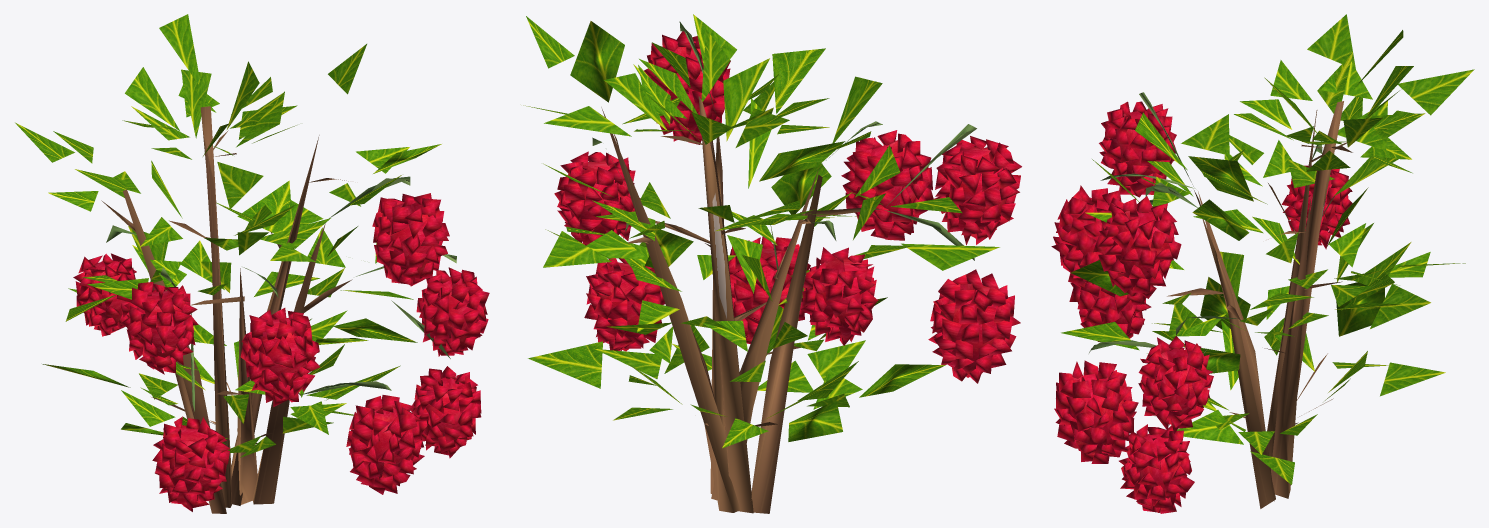
File: NP_Raspberry_Ready_LOD1.fbx
The picture shows the model from 3 angles, left to right: view 1: azimuth 30°, elevation 25°; view 2: azimuth 150°, elevation 25°; view 3: azimuth 270°, elevation 25°; orthographic projection. The views are drawn at different scales.
Visible parts, largest first — view 1: NP_Raspberry_Ready; view 2: NP_Raspberry_Ready; view 3: NP_Raspberry_Ready.
Boxes of the visible parts, x1=… form: NP_Raspberry_Ready: x1=15, y1=14, x2=489, y2=513; NP_Raspberry_Ready: x1=523, y1=14, x2=1021, y2=513; NP_Raspberry_Ready: x1=1051, y1=14, x2=1474, y2=513.
Bounding box in the file's own units: 79.48 × 84.17 × 69.7.
